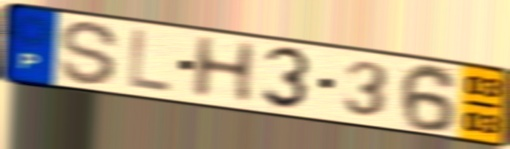3: (256, 46, 319, 114), (341, 59, 392, 119)
6: (397, 60, 461, 134)
H: (187, 33, 259, 105)
L: (125, 26, 174, 97)
S: (57, 19, 122, 88)
